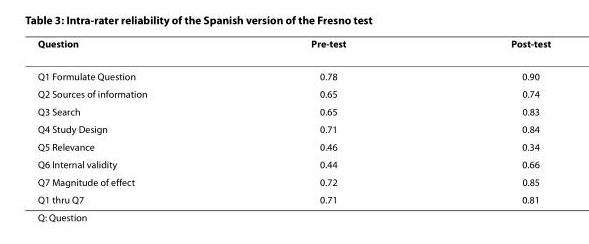table: (36, 36, 550, 205)
table column: (228, 36, 427, 205), (36, 36, 228, 205), (427, 36, 550, 205)
table column header: (36, 36, 550, 59)
table row: (36, 59, 550, 84), (36, 36, 550, 59), (36, 84, 550, 102), (36, 119, 550, 137), (36, 154, 550, 172), (36, 172, 550, 190), (36, 102, 550, 119), (36, 137, 550, 154), (36, 190, 550, 205)
